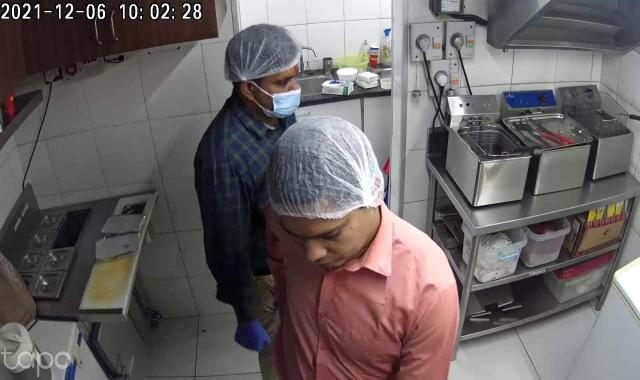hairnet: (266, 111, 398, 220), (220, 27, 298, 94)
